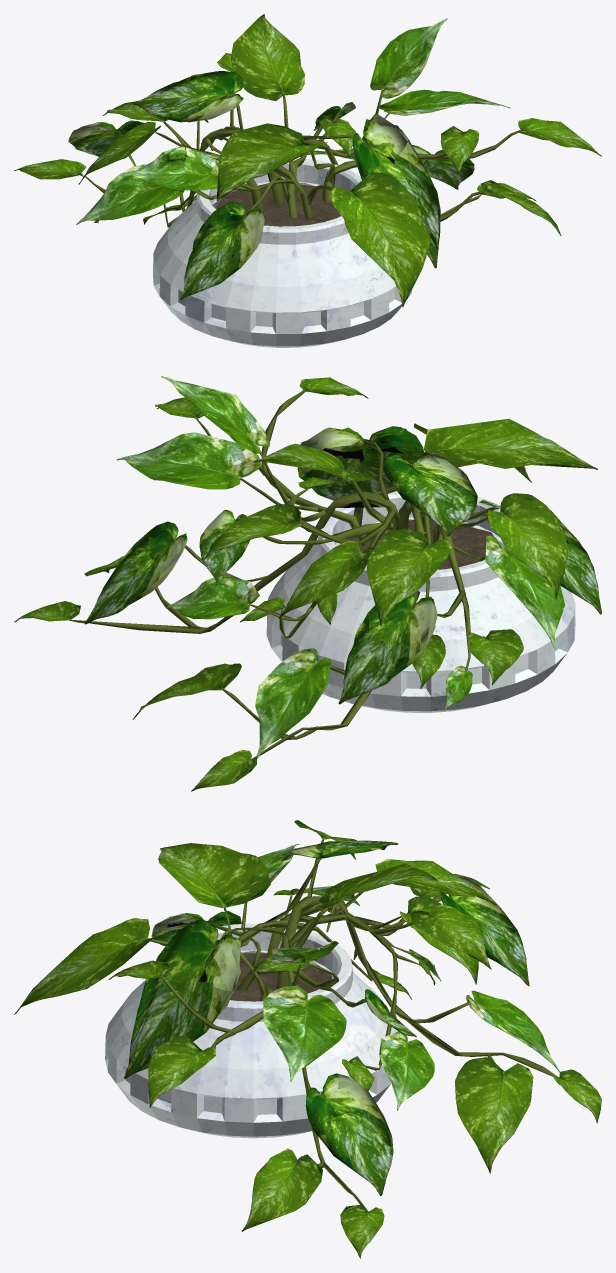
Rendered from potho.glb.
The picture shows the model from 3 angles, top to bottom: view 1: azimuth 30°, elevation 25°; view 2: azimuth 150°, elevation 25°; view 3: azimuth 270°, elevation 25°; orthographic projection. The views are drawn at different scales.
Visible parts, largest first — view 1: Plane.005, Circle, IVY_Curve.004; view 2: Plane.005, Circle, IVY_Curve.004; view 3: Plane.005, Circle, IVY_Curve.004.
Boxes of the visible parts, x1=… form: Plane.005: x1=14, y1=14, x2=601, y2=307; Circle: x1=153, y1=158, x2=416, y2=347; IVY_Curve.004: x1=80, y1=90, x2=520, y2=227; Plane.005: x1=14, y1=376, x2=601, y2=791; Circle: x1=266, y1=491, x2=575, y2=712; IVY_Curve.004: x1=70, y1=389, x2=499, y2=759; Plane.005: x1=14, y1=820, x2=601, y2=1258; Circle: x1=105, y1=923, x2=397, y2=1138; IVY_Curve.004: x1=150, y1=839, x2=558, y2=1211.
Bounding box in the file's own units: 0.5 × 0.2333 × 0.4815.
Materials: 4 (4 with a texture image).
